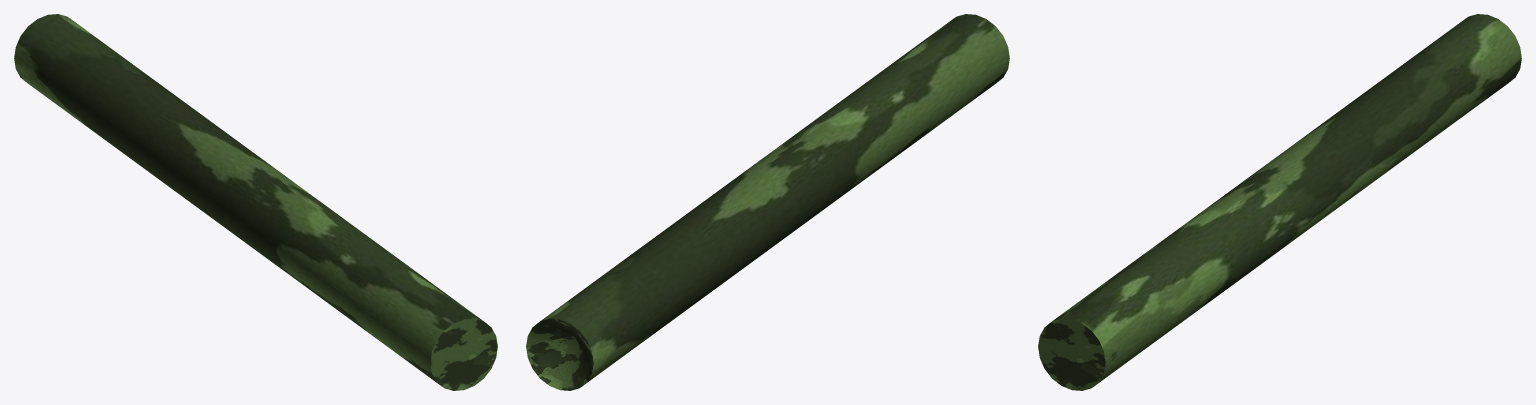
The model's file is PlungerBase.obj.
3 views of the same model, side by side, from view 1: azimuth 30°, elevation 25°; view 2: azimuth 150°, elevation 25°; view 3: azimuth 330°, elevation 25° (orthographic).
Visible parts, largest first — view 1: PlungerBase; view 2: PlungerBase; view 3: PlungerBase.
Boxes of the visible parts, x1,y1,x2,y2 form: PlungerBase: (14,14,497,390); PlungerBase: (526,14,1009,390); PlungerBase: (1038,14,1521,390).
Size of the model in its own units: 7.58 by 7.58 by 80.88.
Materials: 1 (1 with a texture image).
